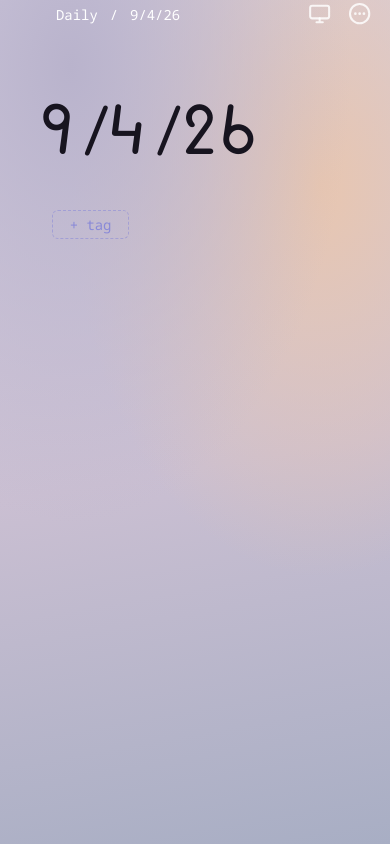
Test: EditorHeader note menu › omits Move for a daily note, whose filename is its date
Click the button named "Note actions".
click(360, 14)  # box [346, 0, 374, 28]
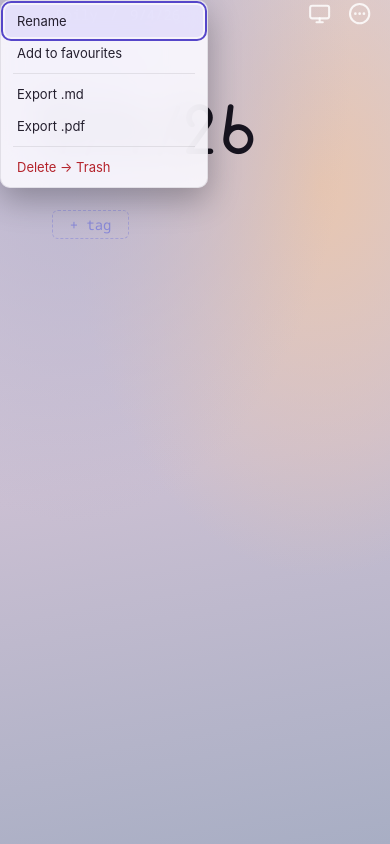
Expected: the menu item "Export .md" is shown, [5, 78, 203, 110]
